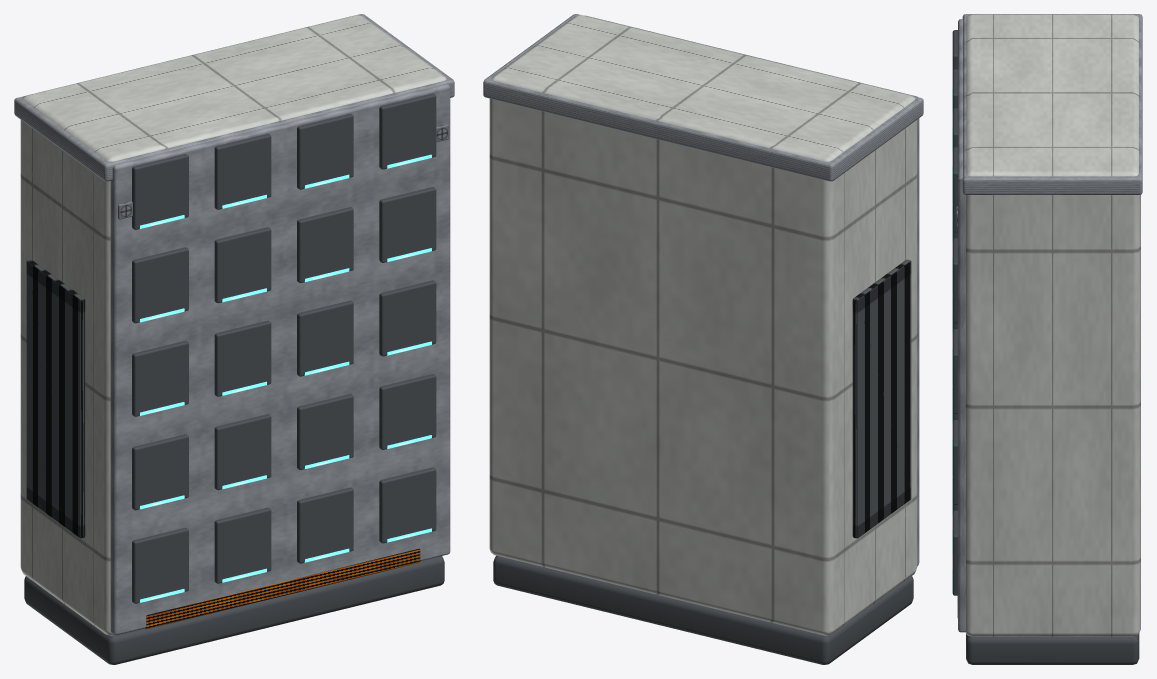
File: room_l1_img2_parts_cabinet.glb
The picture shows the model from 3 angles, left to right: view 1: azimuth 30°, elevation 25°; view 2: azimuth 150°, elevation 25°; view 3: azimuth 270°, elevation 25°; orthographic projection. The views are drawn at different scales.
Visible parts, largest first — view 1: steel_face_frame, enamel_carcass, side_vent_left, contact_shadow_plinth, hazard_toe_strip, top_cap_steel, bin_recess_0_3, bin_recess_4_3, bin_recess_2_1, bin_recess_2_3, bin_recess_4_1, bin_recess_0_1 (+14 smaller); view 2: enamel_carcass, side_vent_left, contact_shadow_plinth, top_cap_steel, steel_face_frame; view 3: enamel_carcass, top_cap_steel, contact_shadow_plinth, steel_face_frame, bin_recess_0_3, bin_recess_3_3, bin_recess_1_3, bin_recess_2_3, bin_recess_4_3.
Boxes of the visible parts, x1=… form: steel_face_frame: x1=110, y1=84, x2=450, y2=635; enamel_carcass: x1=20, y1=15, x2=446, y2=635; side_vent_left: x1=26, y1=259, x2=85, y2=538; contact_shadow_plinth: x1=24, y1=556, x2=444, y2=664; hazard_toe_strip: x1=145, y1=548, x2=420, y2=629; top_cap_steel: x1=14, y1=14, x2=454, y2=181; bin_recess_0_3: x1=379, y1=467, x2=436, y2=543; bin_recess_4_3: x1=379, y1=93, x2=436, y2=169; bin_recess_2_1: x1=214, y1=320, x2=271, y2=396; bin_recess_2_3: x1=379, y1=280, x2=436, y2=356; bin_recess_4_1: x1=214, y1=133, x2=271, y2=209; bin_recess_0_1: x1=214, y1=507, x2=271, y2=583; enamel_carcass: x1=489, y1=15, x2=917, y2=635; side_vent_left: x1=852, y1=259, x2=911, y2=538; contact_shadow_plinth: x1=493, y1=555, x2=913, y2=664; top_cap_steel: x1=483, y1=14, x2=923, y2=181; steel_face_frame: x1=585, y1=15, x2=919, y2=565; enamel_carcass: x1=966, y1=14, x2=1140, y2=636; top_cap_steel: x1=962, y1=14, x2=1142, y2=194; contact_shadow_plinth: x1=966, y1=633, x2=1139, y2=664; steel_face_frame: x1=958, y1=19, x2=965, y2=632; bin_recess_0_3: x1=952, y1=510, x2=957, y2=595; bin_recess_3_3: x1=952, y1=238, x2=957, y2=323; bin_recess_1_3: x1=952, y1=419, x2=957, y2=504; bin_recess_2_3: x1=952, y1=329, x2=957, y2=413; bin_recess_4_3: x1=952, y1=147, x2=957, y2=232.
Bounding box in the file's own units: 1.25 × 1.7 × 0.593.
7 materials, 6 textured.
